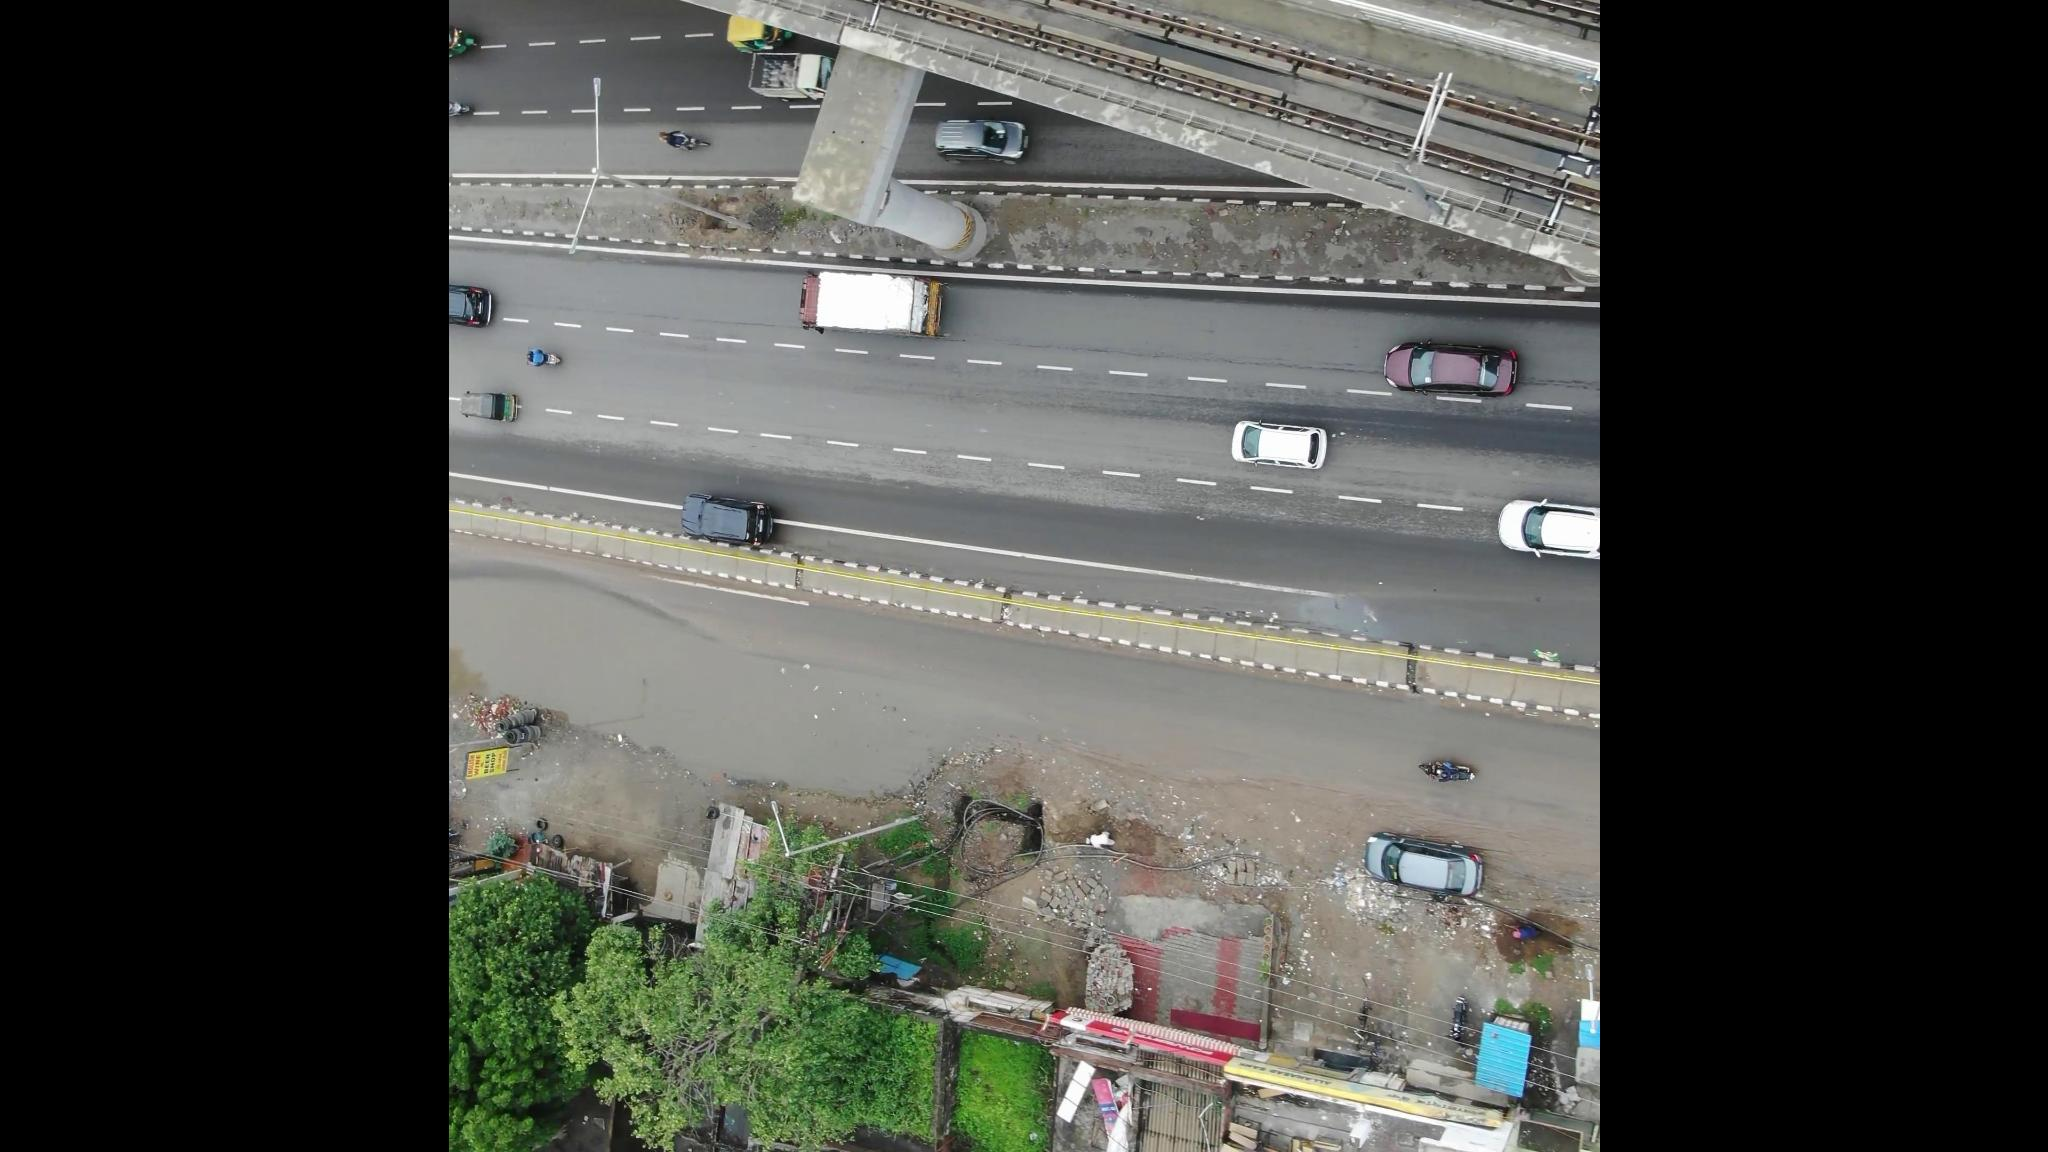Waterlogging: (474, 582, 904, 807)
